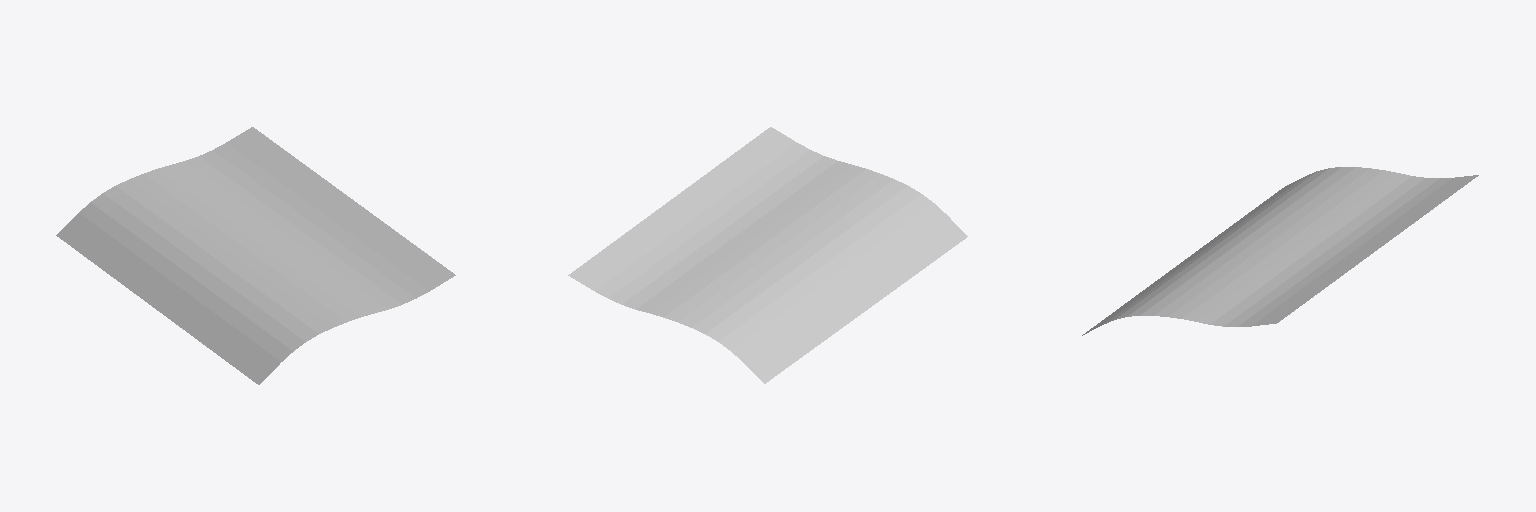
The model's file is page0009.obj.
3 views of the same model, side by side, from view 1: azimuth 30°, elevation 25°; view 2: azimuth 150°, elevation 25°; view 3: azimuth 330°, elevation 25° (orthographic).
Bounding box in the file's own units: 281 × 83.99 × 500.